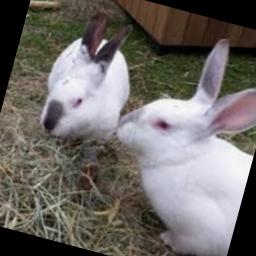rabbit: (116, 38, 256, 256), (39, 12, 131, 140)
